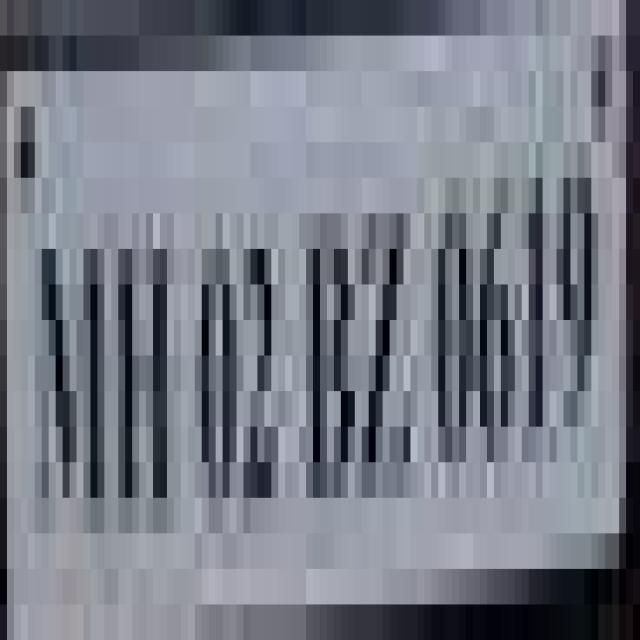license_plate: (6, 35, 605, 640)
